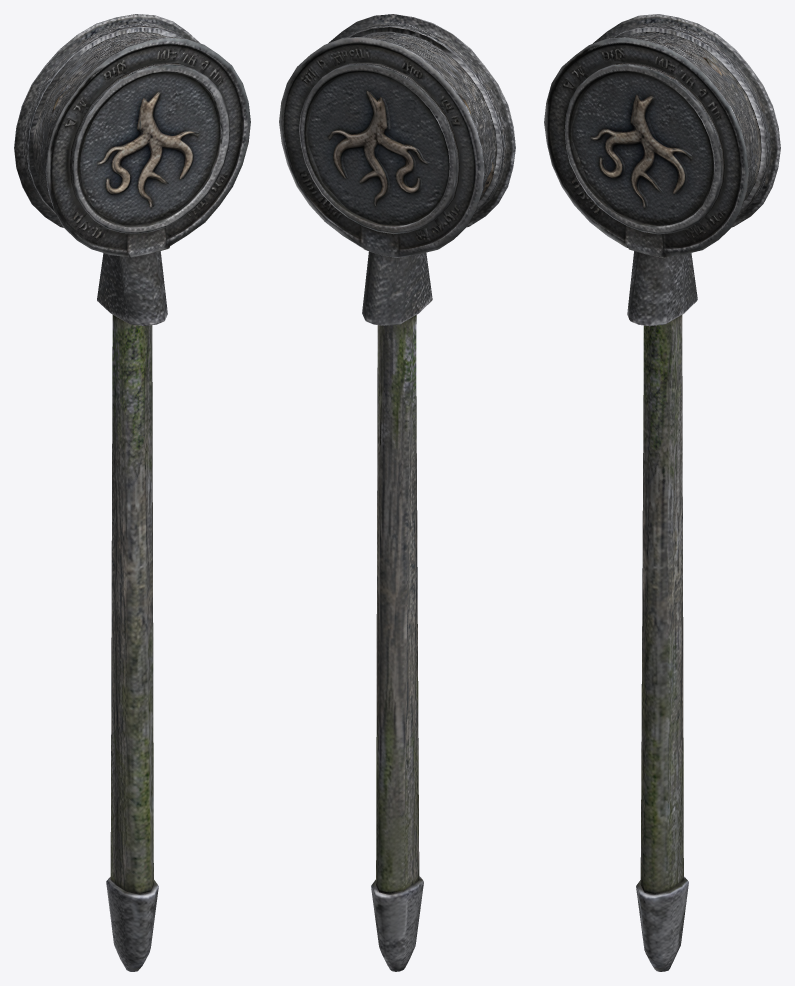
Rendered from sigillo_verath.glb.
3 renders of one model, left to right at view 1: azimuth 30°, elevation 25°; view 2: azimuth 150°, elevation 25°; view 3: azimuth 330°, elevation 25°, orthographic.
Parts seen in each view (by area): view 1: sigillo_verath; view 2: sigillo_verath; view 3: sigillo_verath.
Part boxes in pixels (bbox=[...]): sigillo_verath: bbox=[14, 14, 250, 971]; sigillo_verath: bbox=[279, 14, 515, 971]; sigillo_verath: bbox=[544, 14, 780, 971].
Bounding box in the file's own units: 0.0913 × 0.4 × 0.0377.
1 material, 1 textured.
